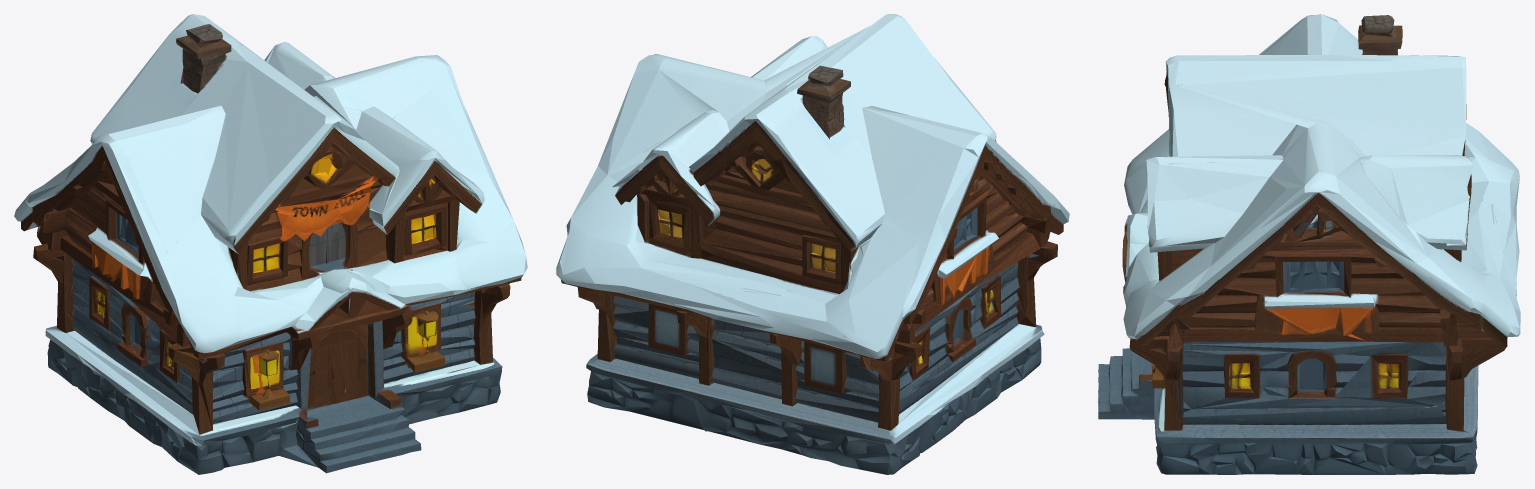
Rendered from town_hall.glb.
The picture shows the model from 3 angles, left to right: view 1: azimuth 30°, elevation 25°; view 2: azimuth 150°, elevation 25°; view 3: azimuth 270°, elevation 25°; orthographic projection. The views are drawn at different scales.
Size of the model in its own units: 1.87 by 1.77 by 1.9.
1 material, 1 textured.
